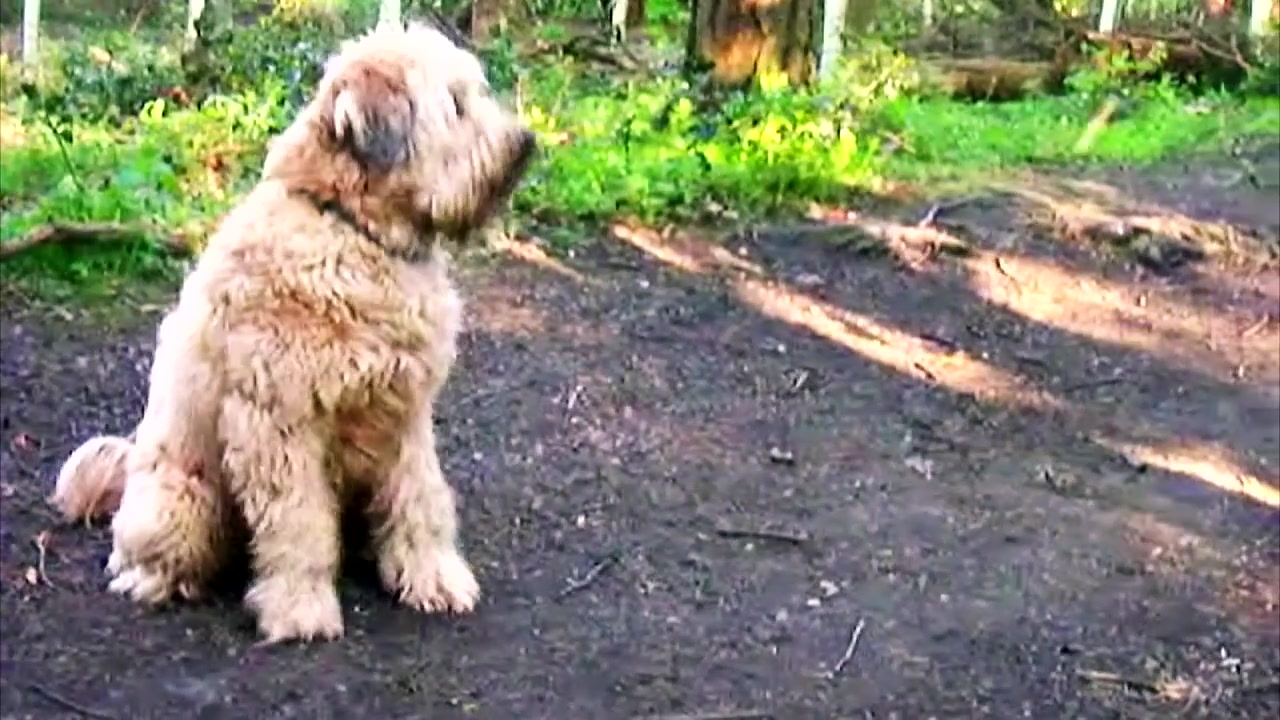dog: (49, 14, 533, 646)
